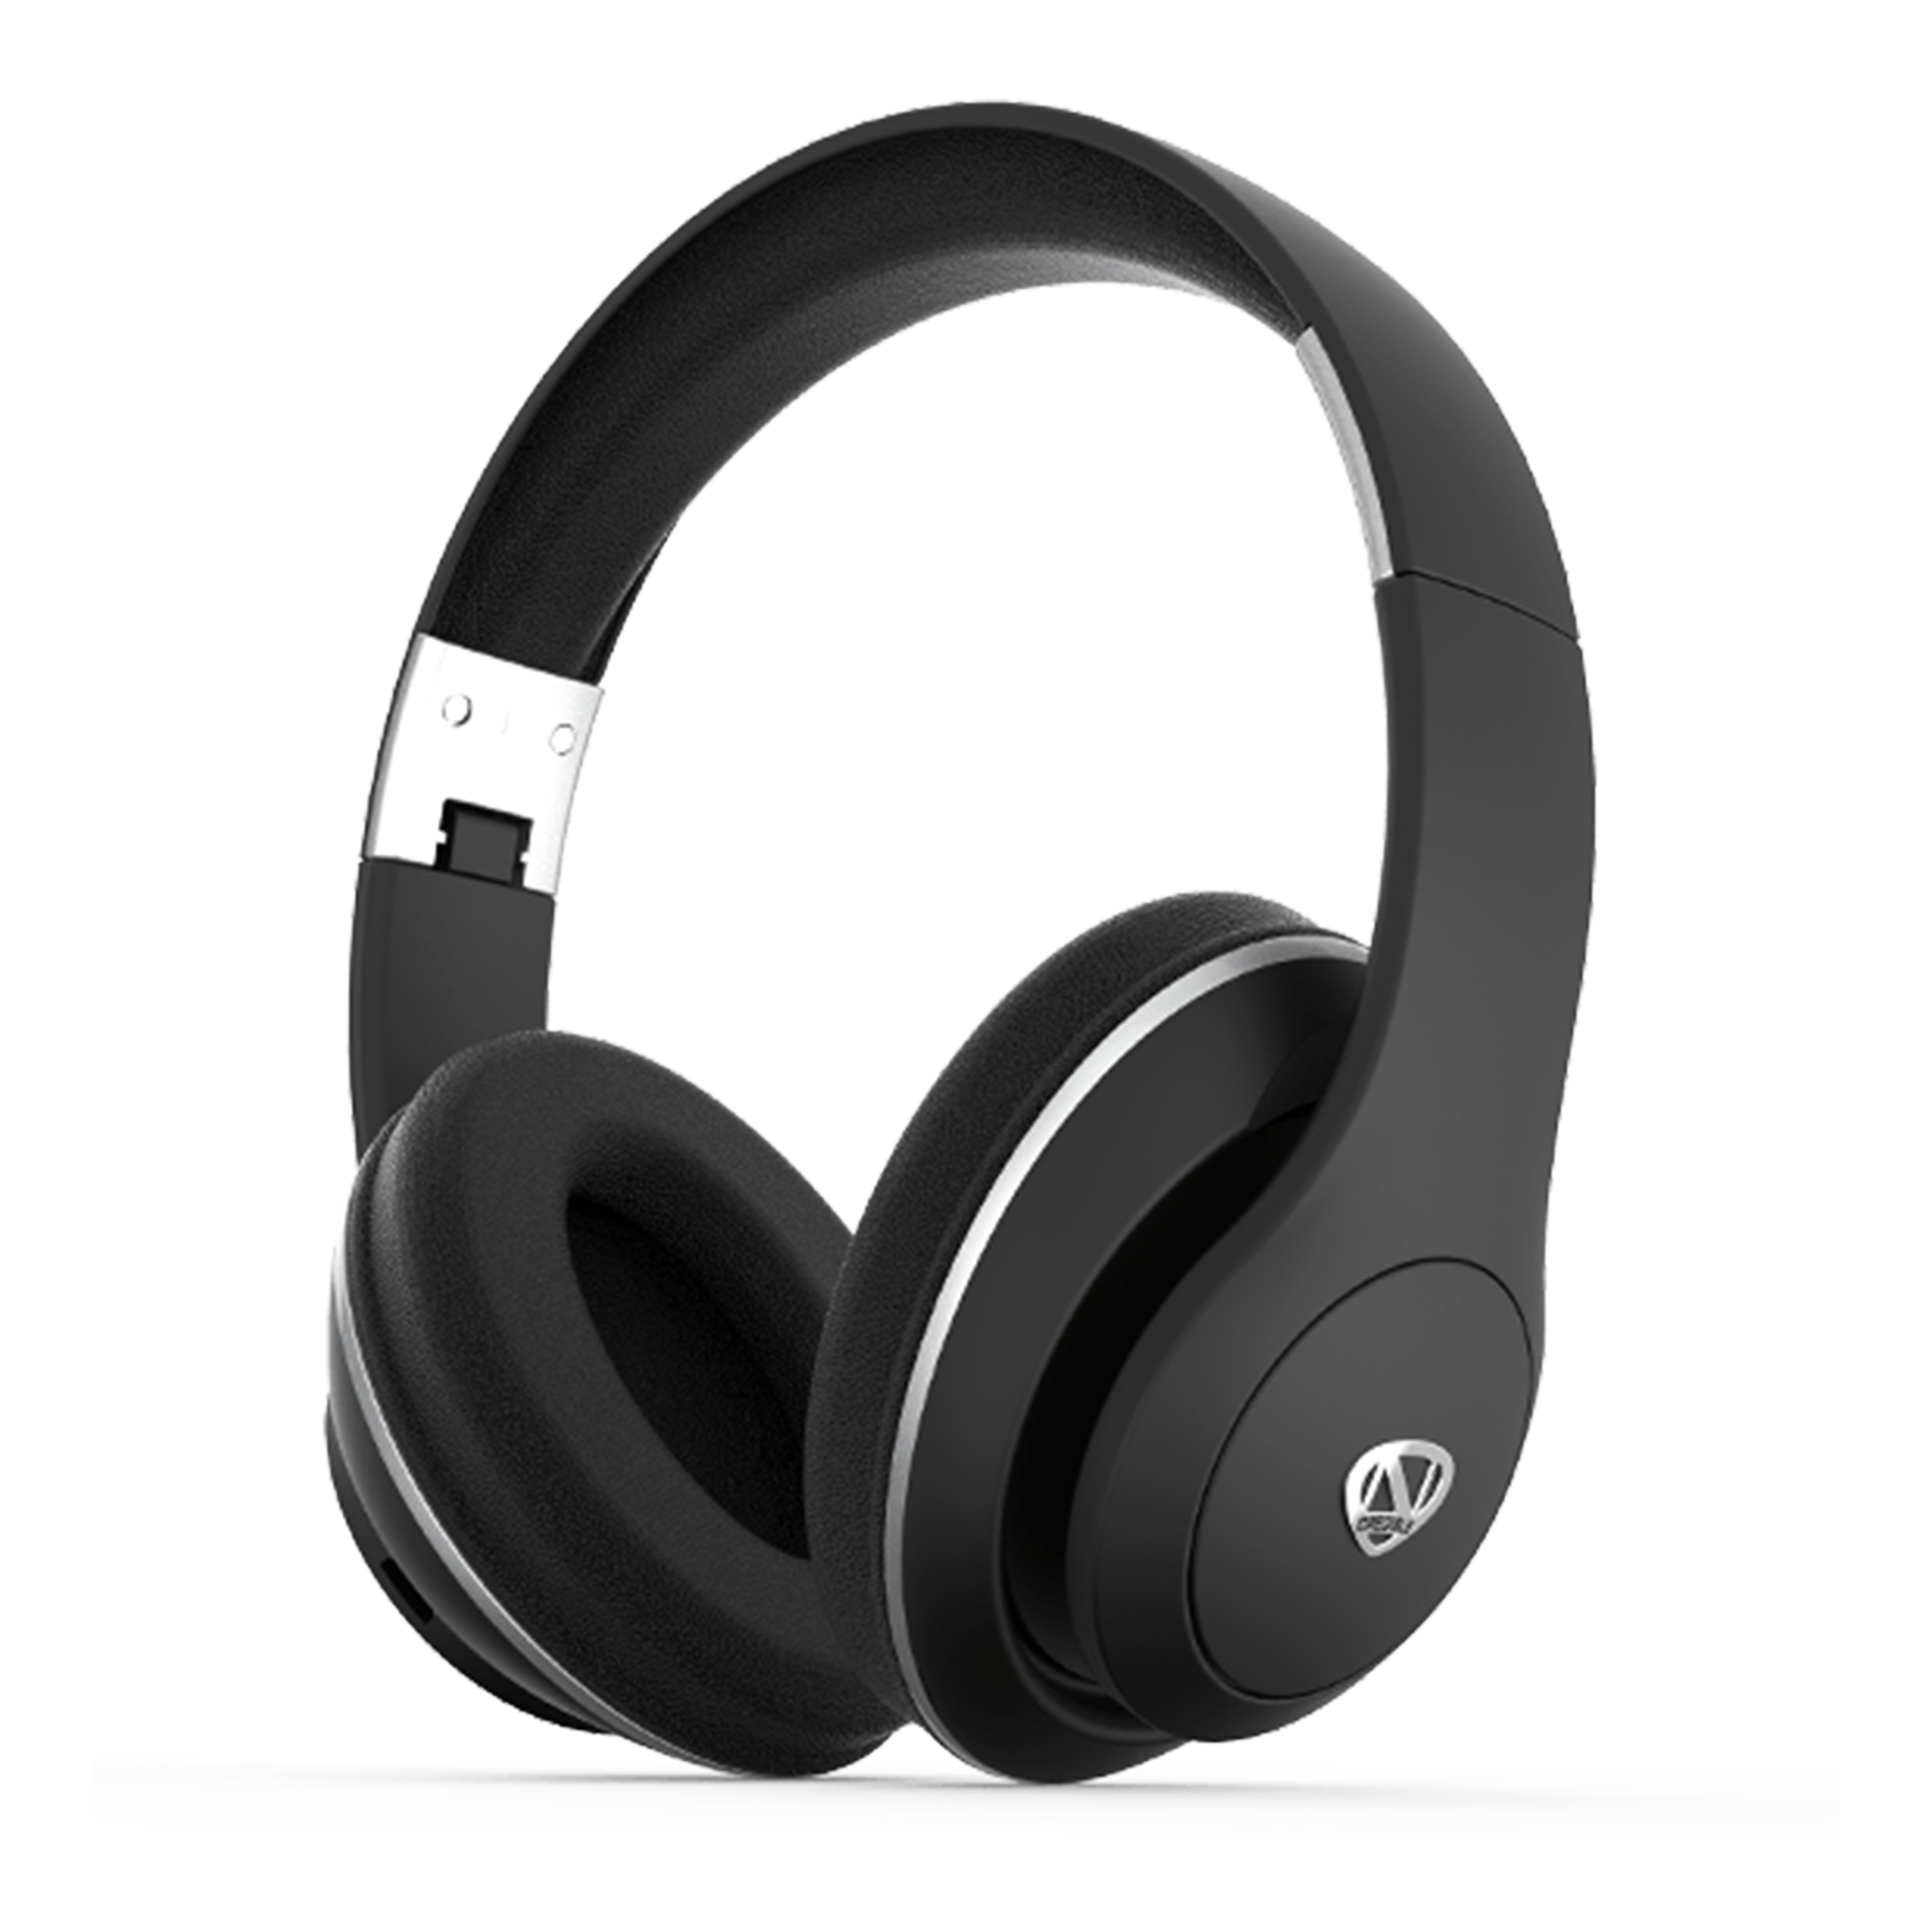Headphone: (257, 94, 1615, 1805)
